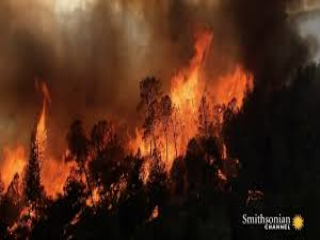fire: (151, 42, 255, 167), (7, 87, 87, 196)
